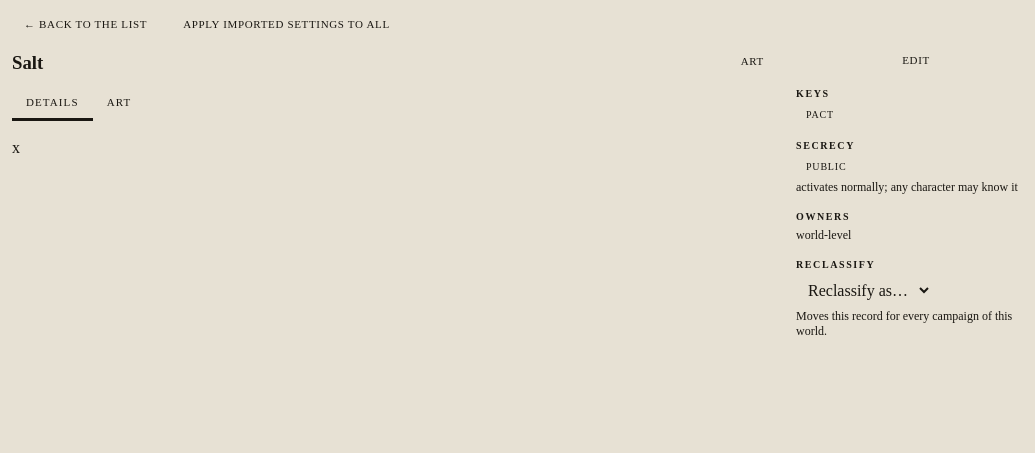
a refused move reports the error and leaves the record where it is
This screenshot has width=1035, height=453.
Select "location" in the dropdown named "Reclassify as": [864, 290] box x1=796 y1=276 x2=932 y2=305
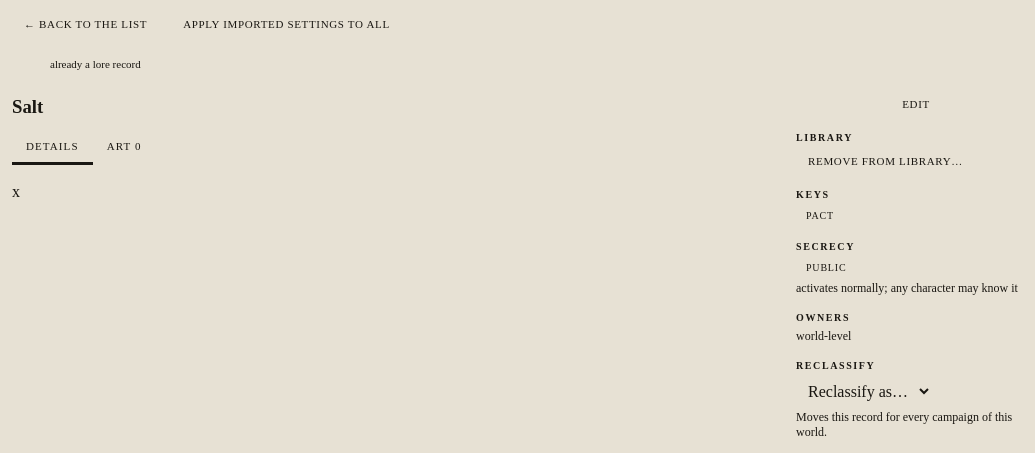
Check: the text "already a lore record" is shown, box x1=50 y1=58 x2=141 y2=70
